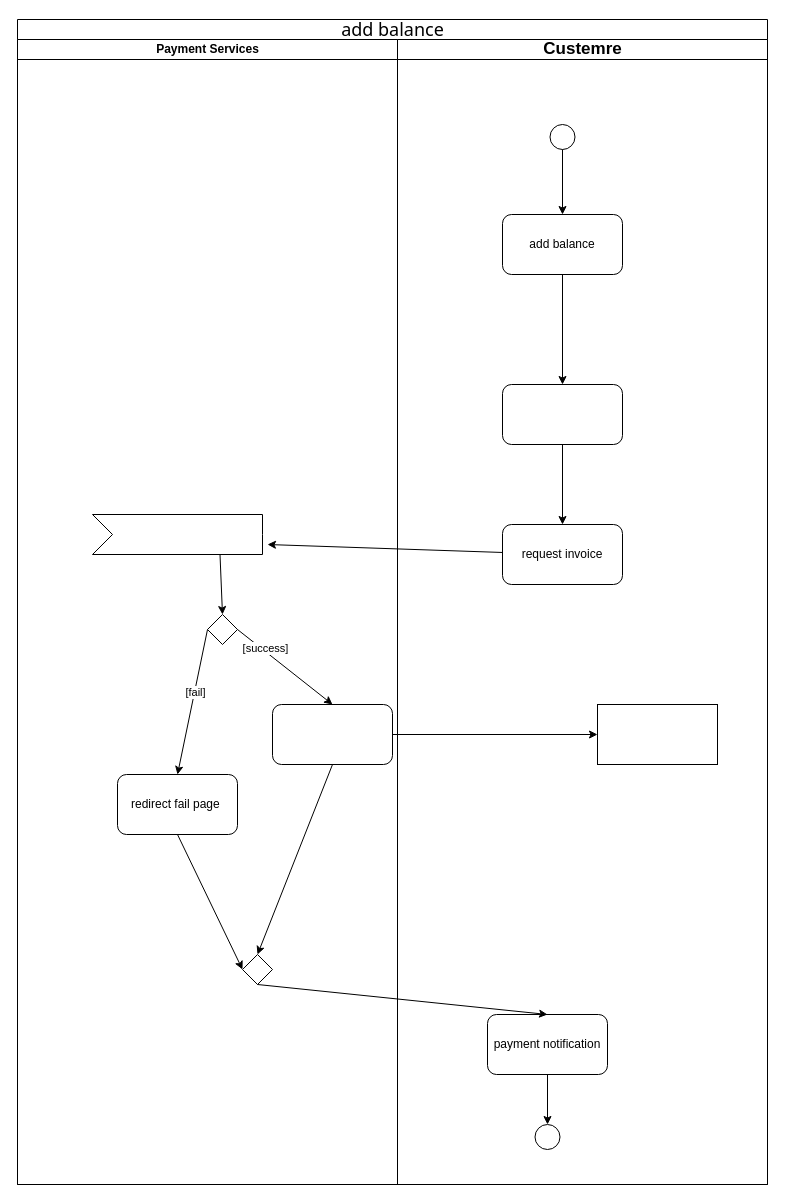
The diagram is 785 pixels wide and 1202 high, and some of its shapes have lost their labels. Each missing label, with the centre of its shape:
choose curency: (562,414)
create: (177,534)
redirect success page: (332,734)
«datastore» customer: (657,734)
